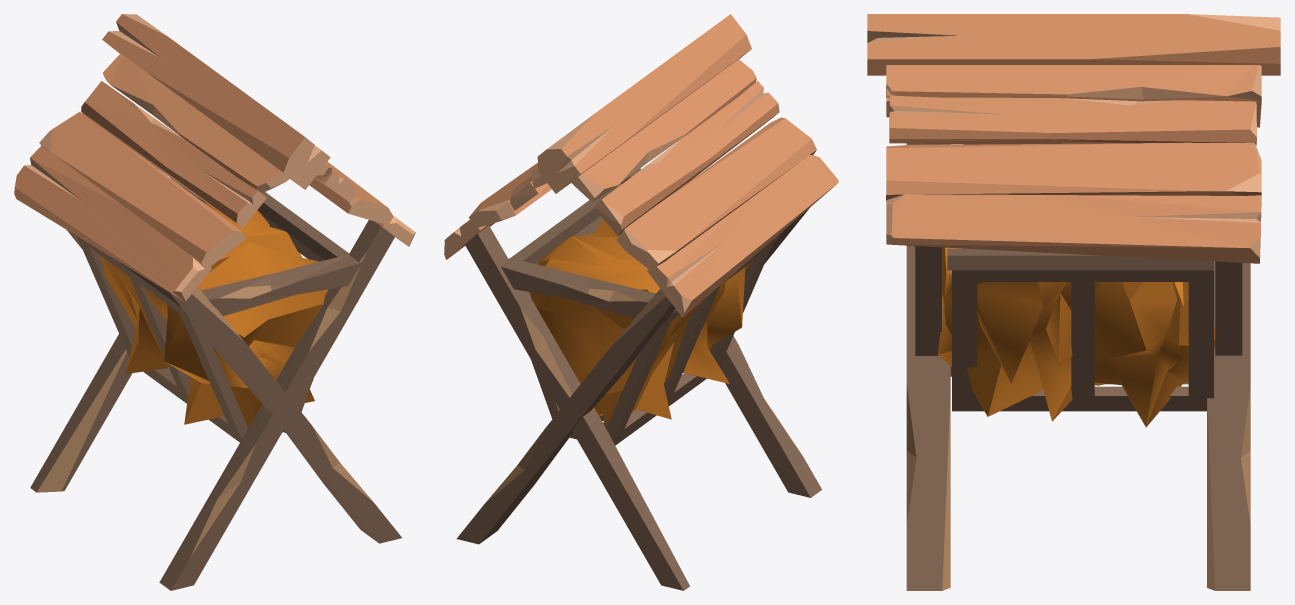
File: Feeder_1_w_Hay.fbx
The picture shows the model from 3 angles, left to right: view 1: azimuth 30°, elevation 25°; view 2: azimuth 150°, elevation 25°; view 3: azimuth 270°, elevation 25°; orthographic projection. The views are drawn at different scales.
Parts seen in each view (by area): view 1: Feeder_1_w_Hay; view 2: Feeder_1_w_Hay; view 3: Feeder_1_w_Hay.
Part boxes in pixels (x1,y1,x2,y2): Feeder_1_w_Hay: (14,14,415,590); Feeder_1_w_Hay: (444,14,838,590); Feeder_1_w_Hay: (867,14,1280,590).
Bounding box in the file's own units: 34.47 × 57.73 × 42.21.
